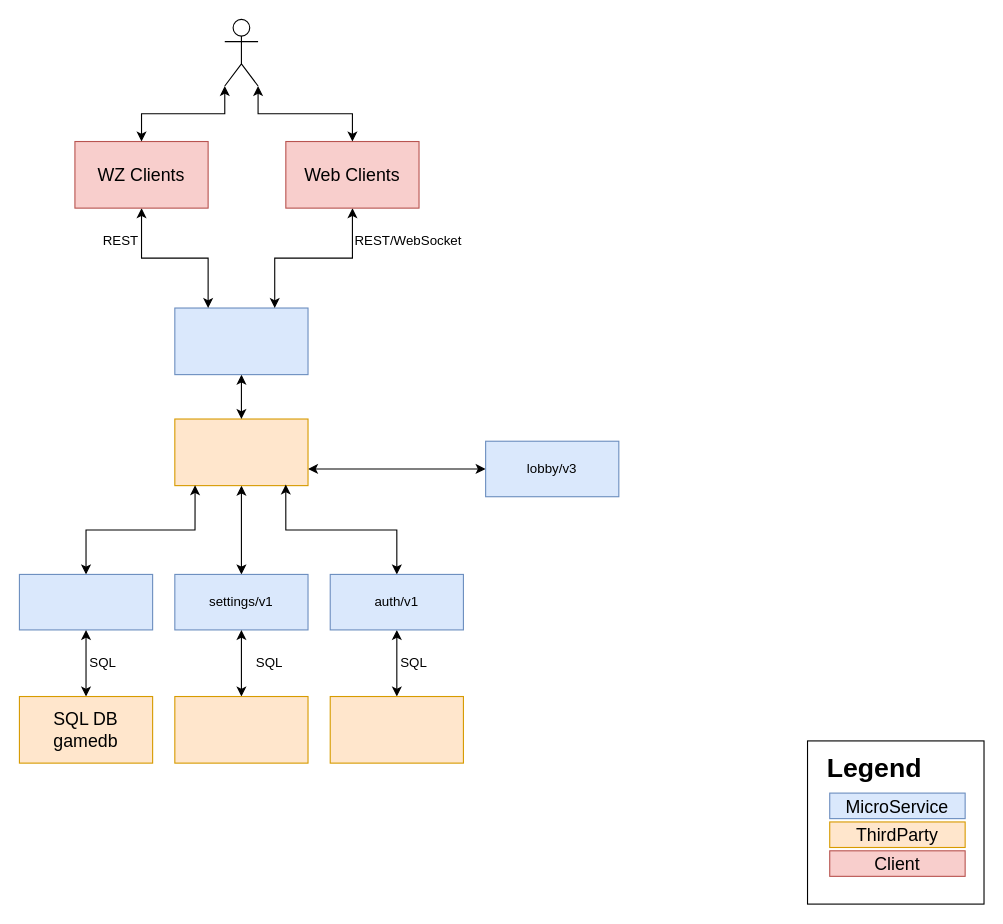
This 1003x924 diagram has some shape labels left out. The shapes that lost their labels are listed below. From the top down, each one's centre as x and y in pixels, then its label:
At [241,341]: "HTTP Proxy".
At [241,452]: "NATS Broker".
At [85,601]: "gamedb/v1".
At [241,729]: "SQL DB settings".
At [396,729]: "SQL DB auth".
